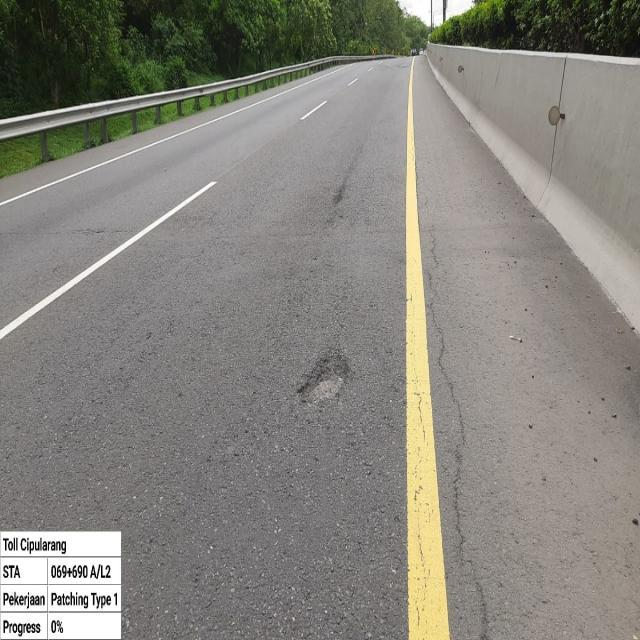Buraco: (294, 351, 353, 411)
